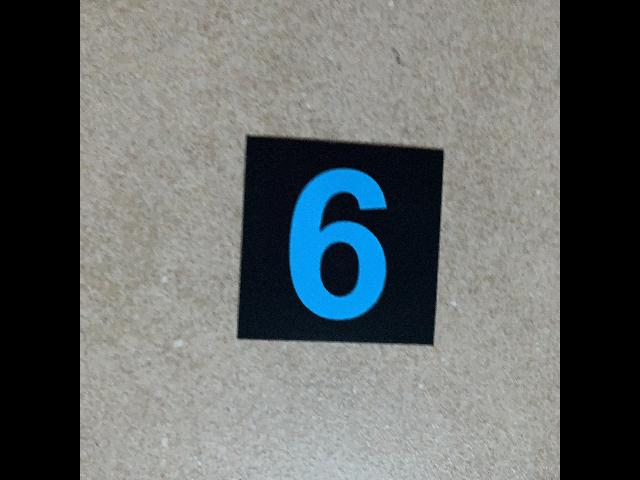six: (231, 132, 445, 350)
